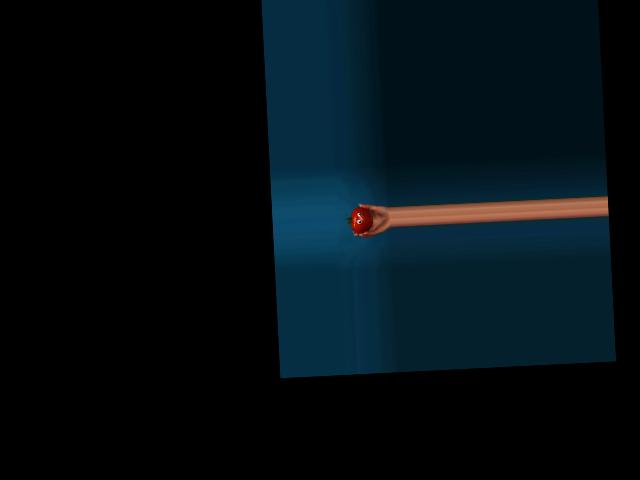tomato: (350, 206, 373, 233)
